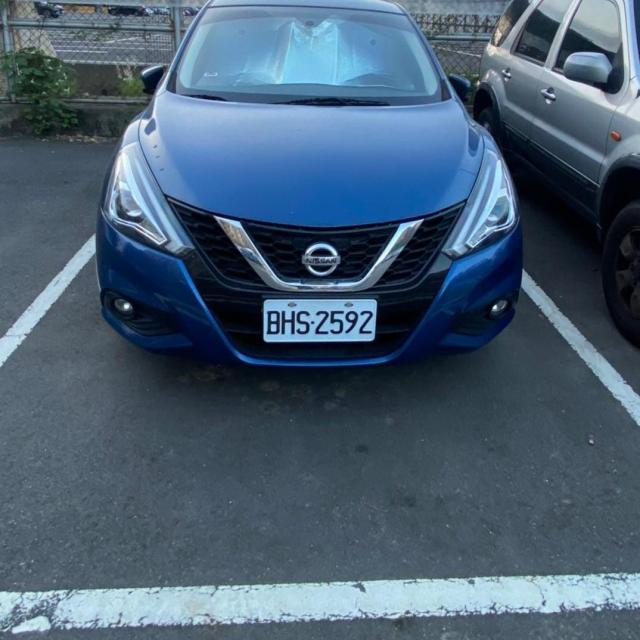W: (262, 298, 376, 344)
